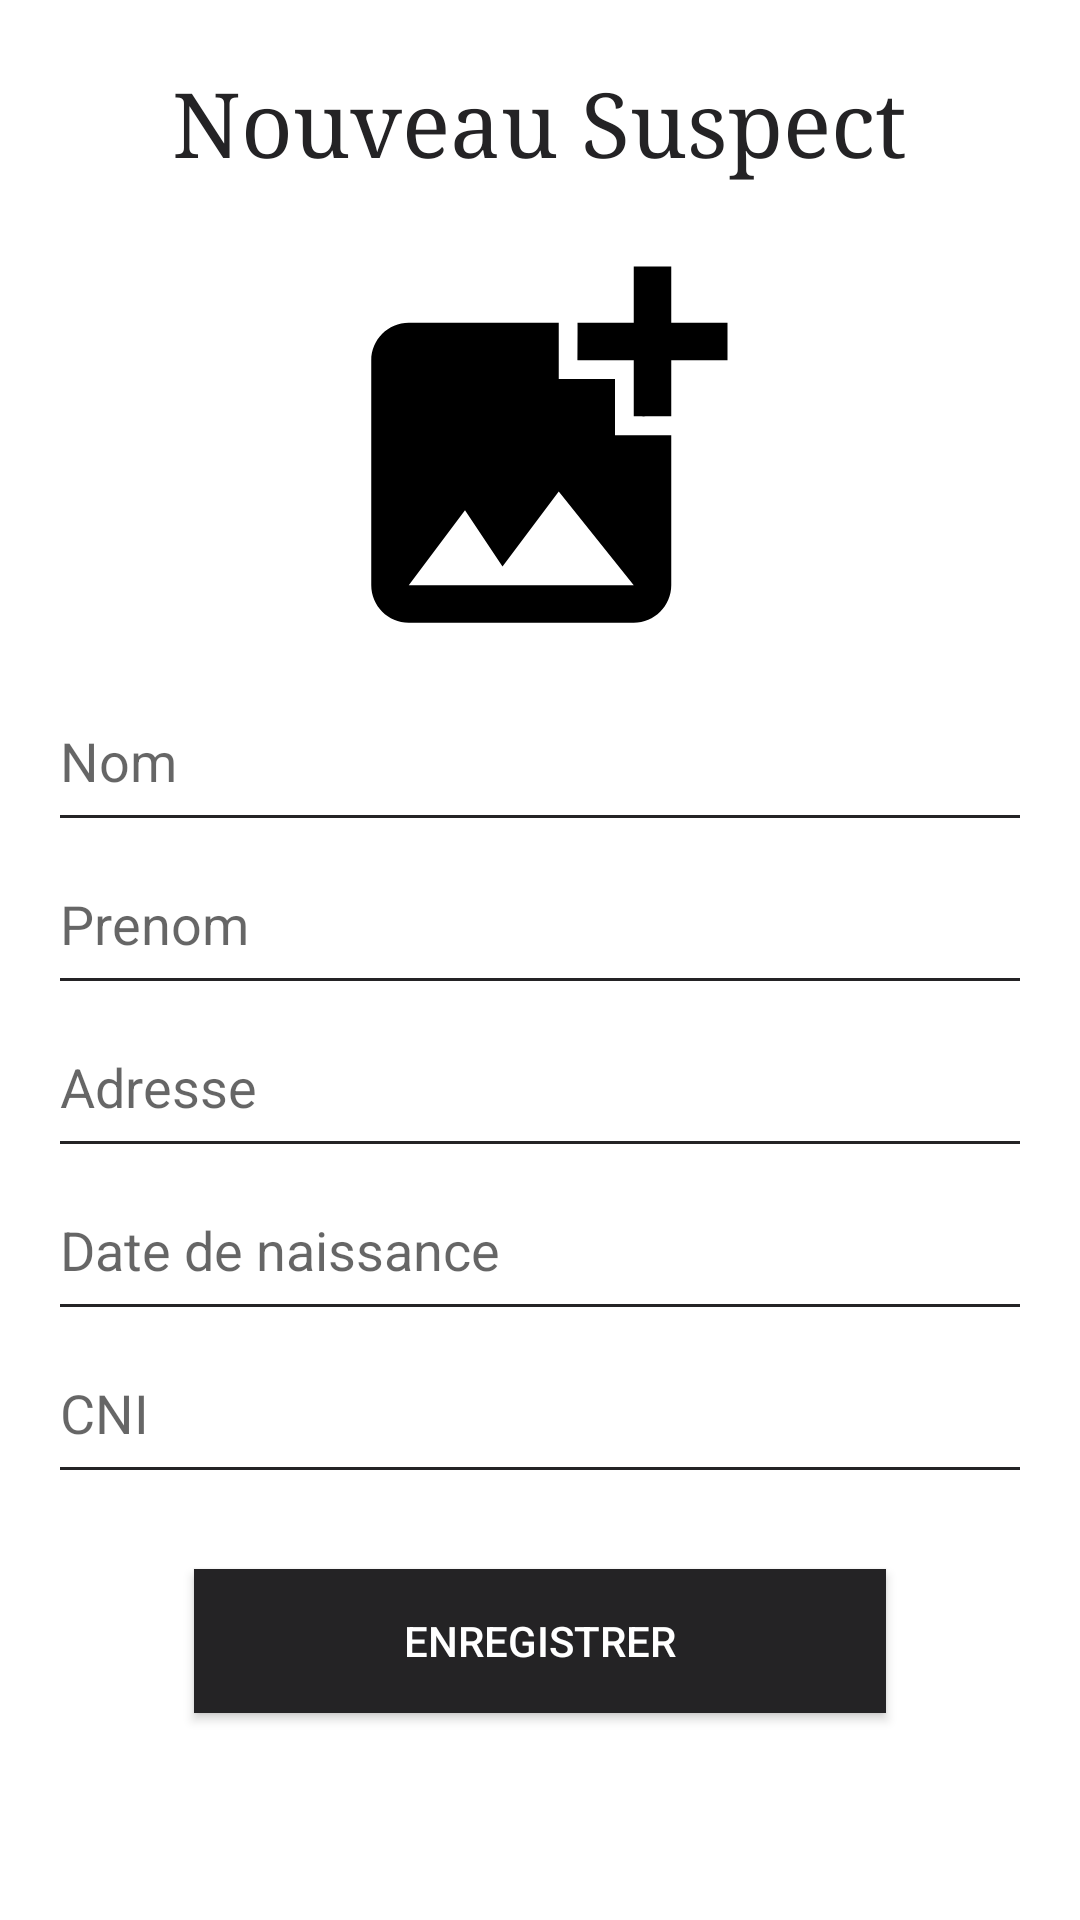

Where to tap for icons on this 1080px×1920px app screen, as [x,y]:
add photo alternate: [549,444]
